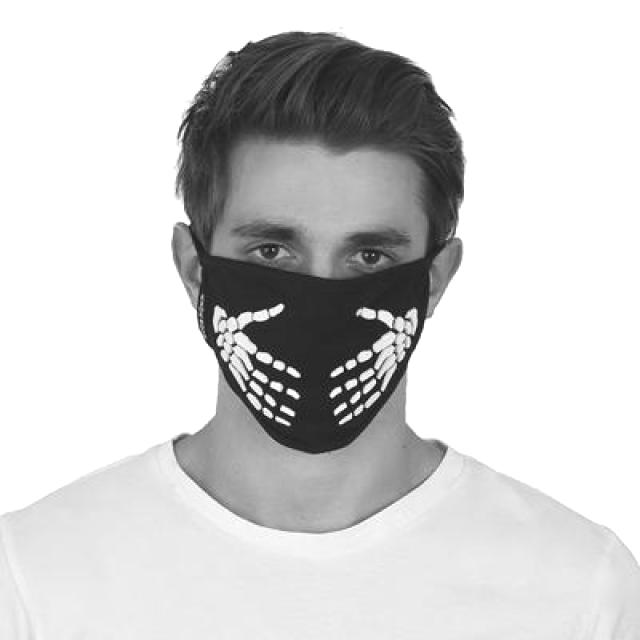face_mask: (198, 200, 432, 453)
head_nohelmet: (160, 24, 498, 200)
person: (0, 41, 605, 640)
